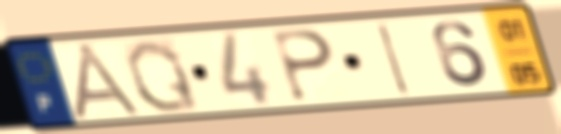4: (216, 30, 277, 110)
6: (429, 19, 491, 89)
A: (69, 40, 150, 121)
I: (375, 20, 414, 98)
P: (269, 27, 339, 104)
Q: (122, 36, 205, 115)
